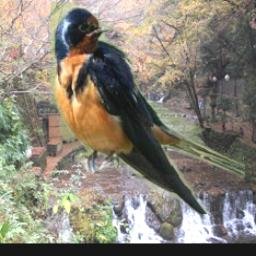Swallow: (50, 2, 245, 214)
